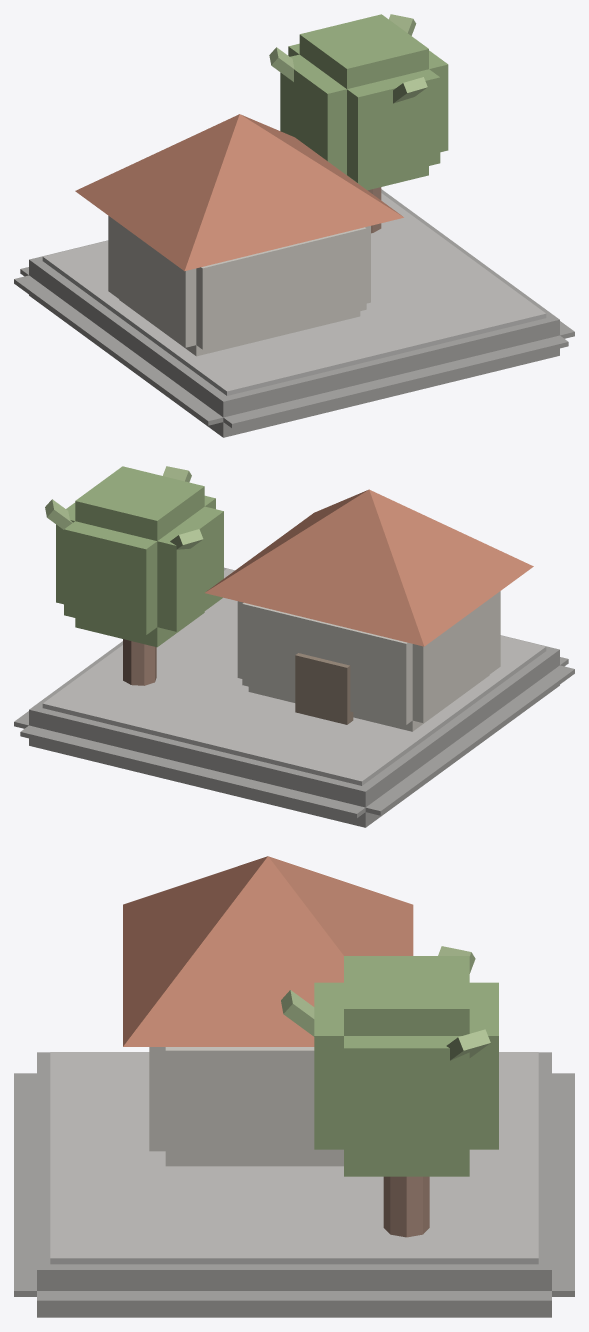
The model's file is Settlement_Village.glb.
The picture shows the model from 3 angles, top to bottom: view 1: azimuth 30°, elevation 25°; view 2: azimuth 150°, elevation 25°; view 3: azimuth 270°, elevation 25°; orthographic projection. The views are drawn at different scales.
Parts seen in each view (by area): view 1: geometry_0; view 2: geometry_0; view 3: geometry_0.
Part boxes in pixels (<box>): geometry_0: <box>14,14,574,437</box>; geometry_0: <box>14,466,574,827</box>; geometry_0: <box>14,856,574,1317</box>.
Size of the model in its own units: 1.71 by 1.04 by 1.7.
